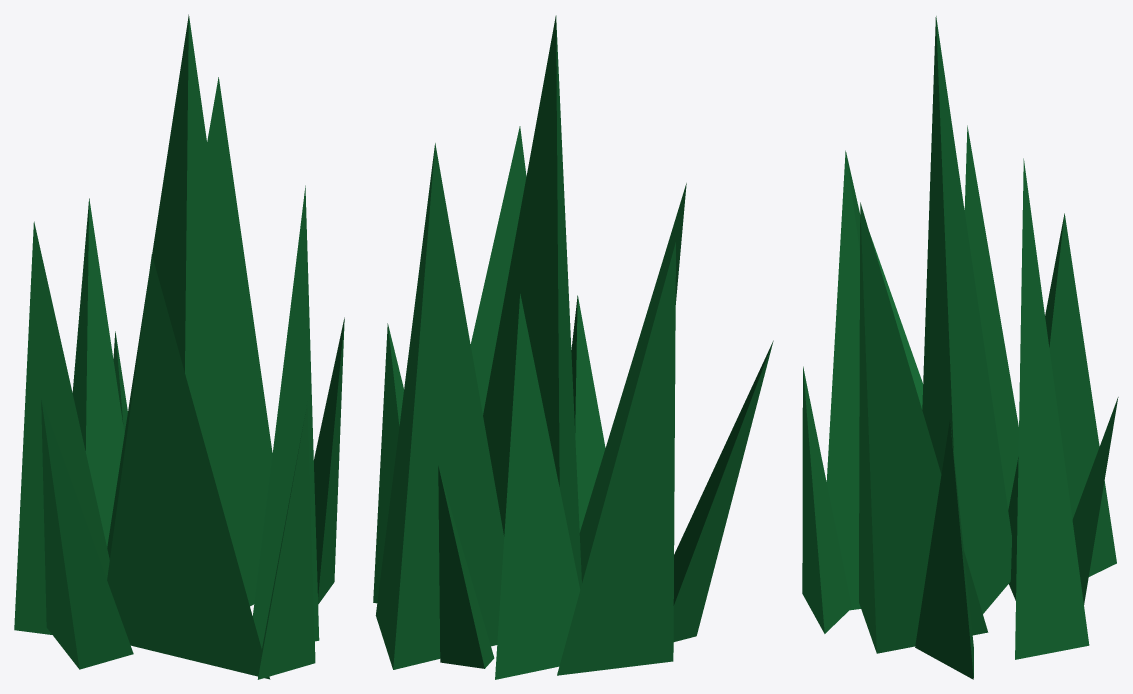
Rendered from Dark Grass.fbx.
3 views of the same model, side by side, from view 1: azimuth 30°, elevation 25°; view 2: azimuth 150°, elevation 25°; view 3: azimuth 270°, elevation 25° (orthographic). The views are drawn at different scales.
Visible parts, largest first — view 1: Dark_Grass; view 2: Dark_Grass; view 3: Dark_Grass.
Part boxes in pixels (<box>): Dark_Grass: <box>14,14,344,679</box>; Dark_Grass: <box>373,15,773,679</box>; Dark_Grass: <box>802,16,1118,679</box>.
Size of the model in its own units: 0.4867 by 0.8348 by 0.4026.
